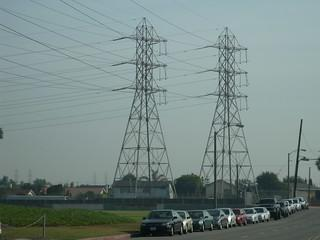power_tower: (114, 15, 177, 191), (200, 27, 261, 205)
